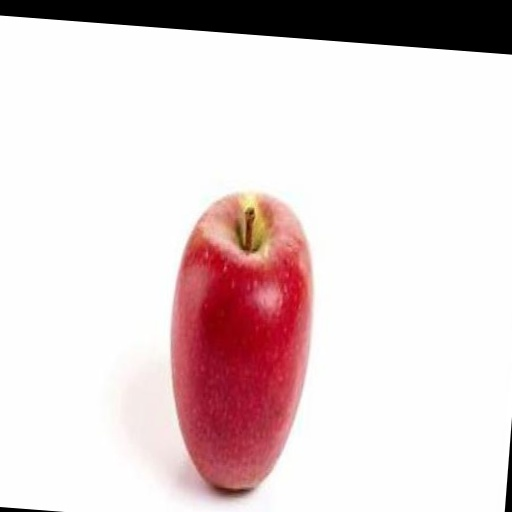fruit: (171, 194, 313, 490)
